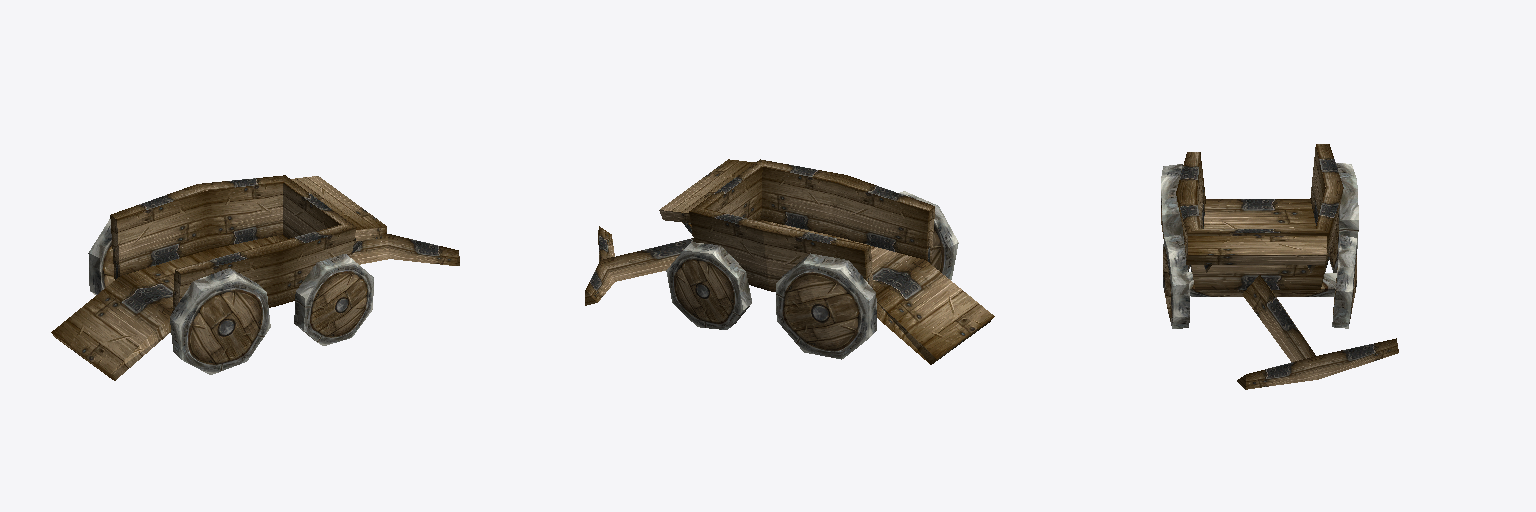
3 renders of one model, left to right at view 1: azimuth 30°, elevation 25°; view 2: azimuth 150°, elevation 25°; view 3: azimuth 270°, elevation 25°, orthographic.
Parts seen in each view (by area): view 1: westfallwagon01; view 2: westfallwagon01; view 3: westfallwagon01.
Boxes of the visible parts, x1,y1,x2,y2 form: westfallwagon01: [51, 175, 459, 380]; westfallwagon01: [585, 159, 994, 364]; westfallwagon01: [1161, 144, 1398, 389].
Bounding box in the file's own units: 9.12 × 2.57 × 5.03.
2 materials, 2 textured.